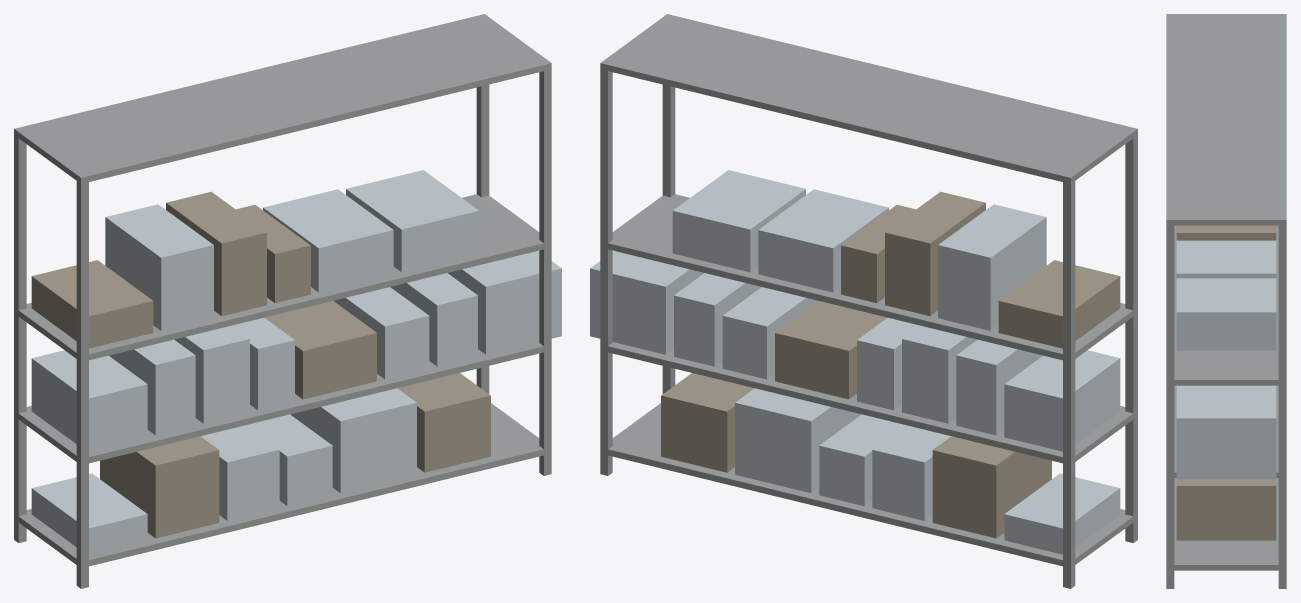
File: prop_shelving_freezer.glb
3 views of the same model, side by side, from view 1: azimuth 30°, elevation 25°; view 2: azimuth 150°, elevation 25°; view 3: azimuth 270°, elevation 25° (orthographic). The views are drawn at different scales.
Parts seen in each view (by area): view 1: Shelving; view 2: Shelving; view 3: Shelving.
Part boxes in pixels (x1=…): Shelving: x1=14, y1=14, x2=561, y2=588; Shelving: x1=590, y1=14, x2=1137, y2=588; Shelving: x1=1166, y1=14, x2=1286, y2=588.
Size of what is drawn, in the model's own units: 2.47 by 2 by 0.59.
